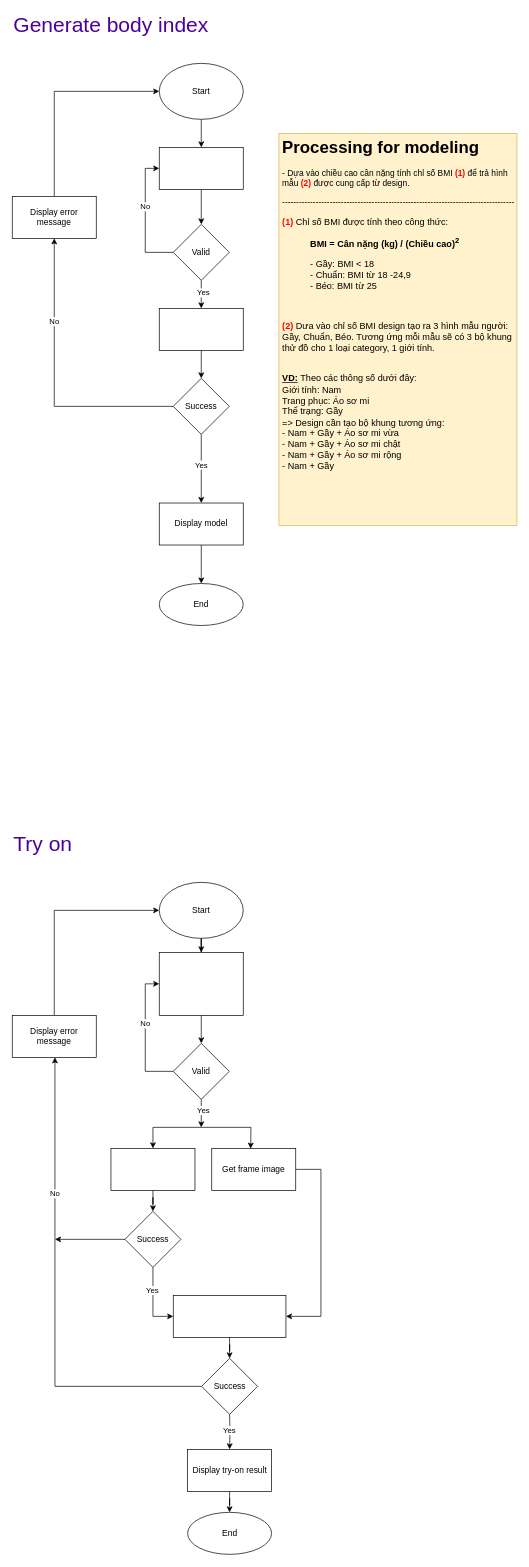
Image size: 529x1567. Some labels were removed from this diagram. The centre of each missing label's shape, as x and y in pixels:
"Apply the product to frame image" belongs at pixel 229 1316.
"Input: + Product image + Product size" belongs at pixel 201 983.
"Input: + Weight + Height" belongs at pixel 201 168.
"Processing to generate model" belongs at pixel 201 329.
"Remove background for product image" belongs at pixel 152 1169.
